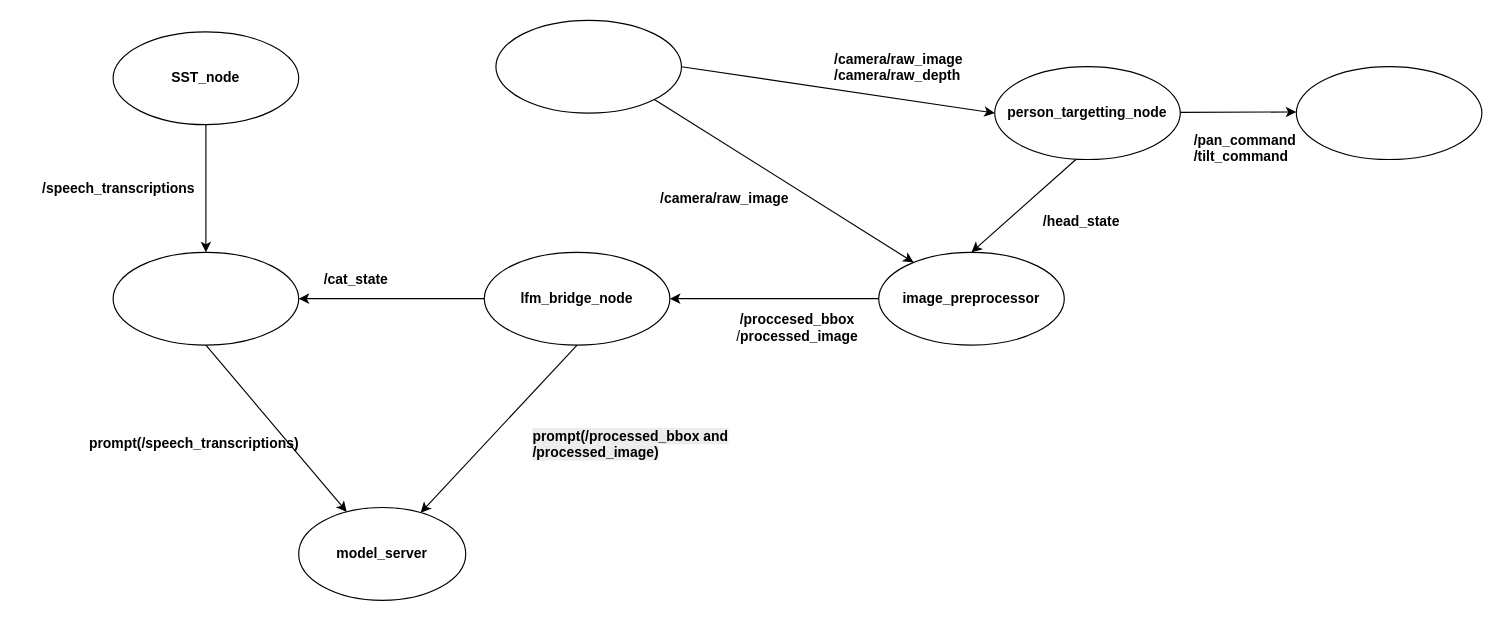
Some shapes in this 1502 by 621 pixel diagram are drawn without their labels. The shapes that lost their labels are listed below. From the top down, each one's centre as x and y in pixels, then its label:
At pixel 588 66: "realsense_camera_node".
At pixel 1388 113: "head_node".
At pixel 205 298: "cat_brain_planner".
